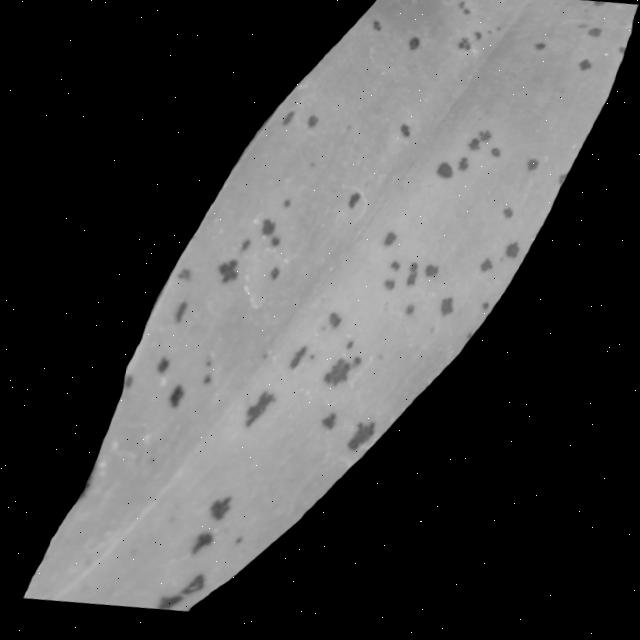mite: (141, 0, 562, 475), (428, 127, 505, 194), (427, 161, 458, 191), (163, 385, 183, 411), (431, 165, 453, 186), (434, 300, 454, 323), (314, 414, 335, 435), (256, 220, 275, 241), (500, 246, 519, 266), (522, 162, 539, 180), (575, 64, 593, 80), (405, 40, 421, 57), (396, 127, 411, 144)
spots: (17, 0, 638, 626)
